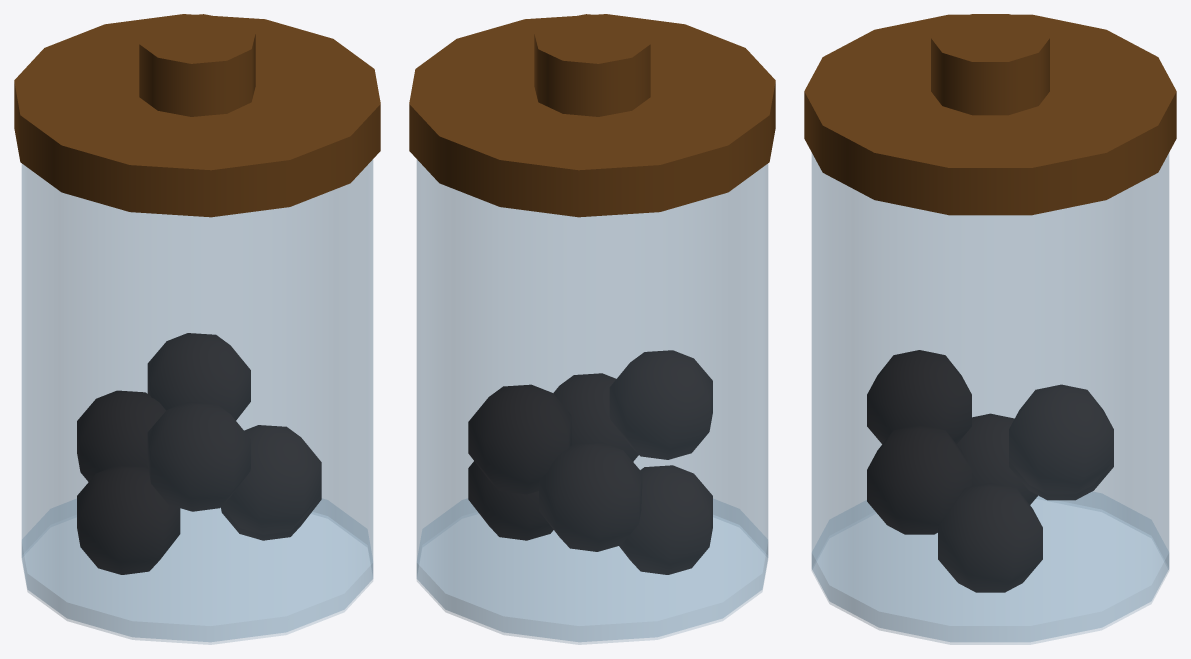
The model's file is jar.glb.
3 renders of one model, left to right at view 1: azimuth 30°, elevation 25°; view 2: azimuth 150°, elevation 25°; view 3: azimuth 270°, elevation 25°, orthographic.
Parts seen in each view (by area): view 1: jar; view 2: jar; view 3: jar.
Boxes of the visible parts, box(x1,y1,x2,y2) form: jar: box(14, 14, 380, 644); jar: box(409, 14, 775, 644); jar: box(804, 14, 1176, 644).
Bounding box in the file's own units: 0.2437 × 0.395 × 0.25.
